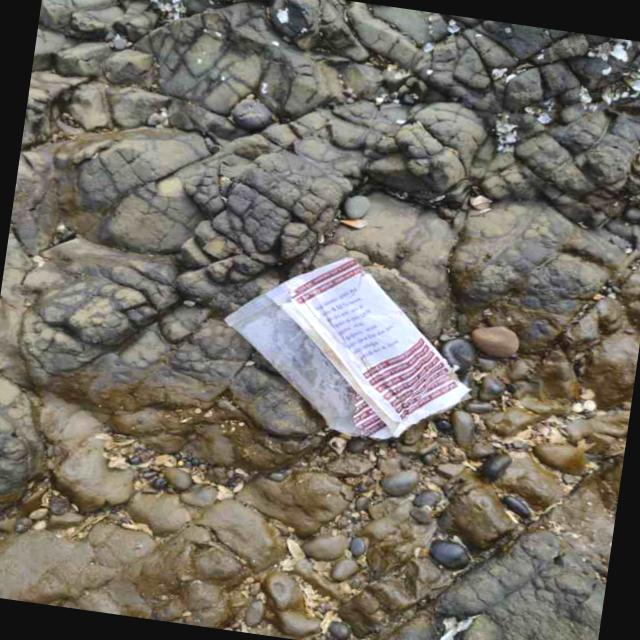giay_goi: (225, 258, 468, 440)
